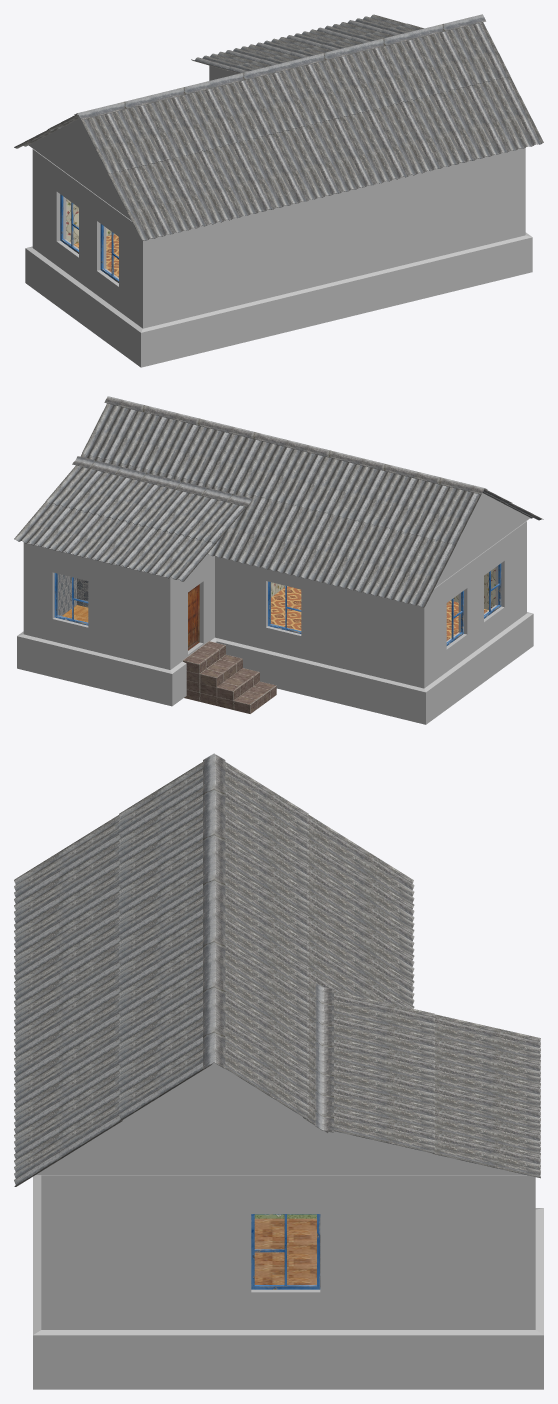
The model's file is building.FBX.
3 renders of one model, top to bottom at view 1: azimuth 30°, elevation 25°; view 2: azimuth 150°, elevation 25°; view 3: azimuth 270°, elevation 25°, orthographic. The views are drawn at different scales.
Parts seen in each view (by area): view 1: roof, house, window; view 2: house, roof, window, door; view 3: roof, house, window.
Part boxes in pixels (<box>): roof: <box>14,14,543,240</box>; house: <box>25,65,532,367</box>; window: <box>60,194,118,282</box>; house: <box>17,521,533,724</box>; roof: <box>14,396,543,607</box>; window: <box>54,563,501,645</box>; door: <box>188,585,198,649</box>; roof: <box>14,753,540,1186</box>; house: <box>33,1175,543,1389</box>; window: <box>251,1214,320,1289</box>.
Size of the model in its own units: 1271 by 649 by 922.
